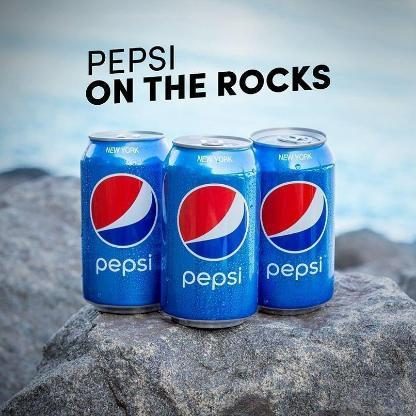Can: (162, 132, 260, 330), (250, 126, 338, 316), (80, 128, 168, 314)
